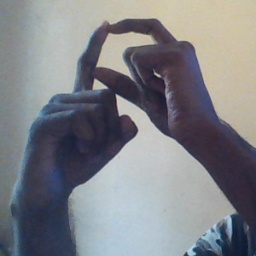D: (67, 13, 187, 137)
